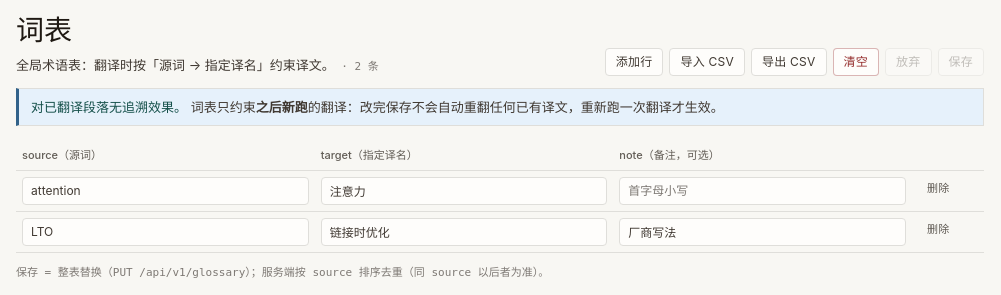
it: GlossaryScreen（全局词表） › 放弃：把本地改动丢掉，回到服务端那一份
Expected: the table is shown, [16,142,984,253]
Type "attn" into the field named "第 1 行 source（源词）". click: (165, 191)
box: [22,177,309,205]
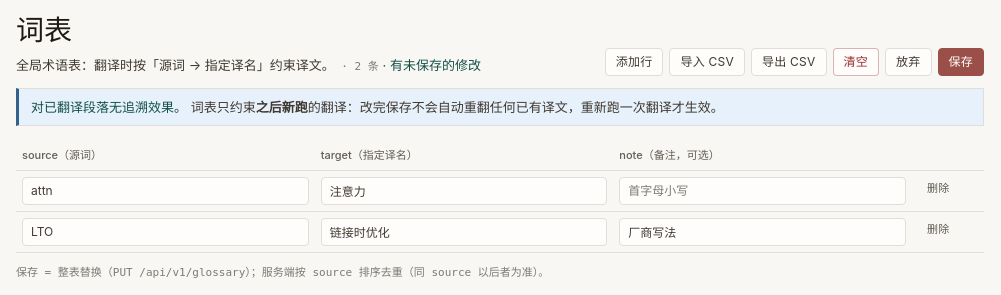
Click the button "放弃". click: (908, 62)
box: [885,48,932,76]
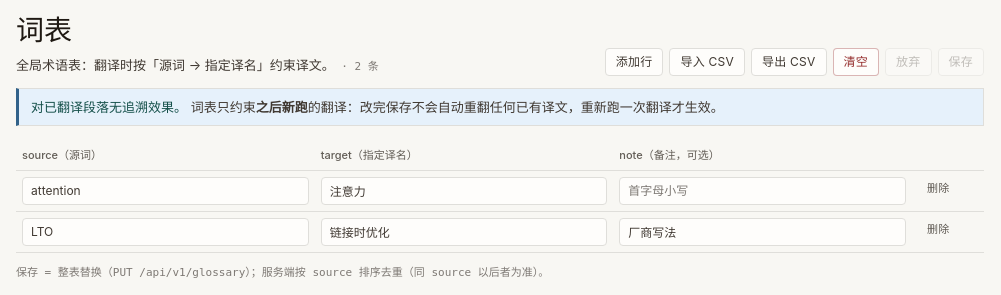
Expected: the field showing "attention" is shown, [22,177,309,205]
Now the button "放弃" is disabled, box [885,48,932,76]
